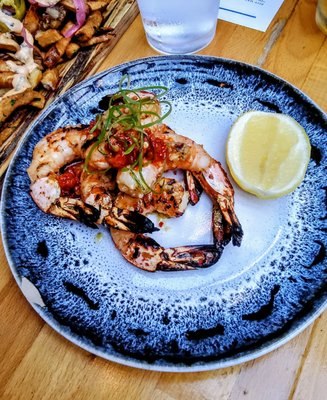pizza: (135, 0, 221, 56)
taco: (224, 110, 312, 201)
